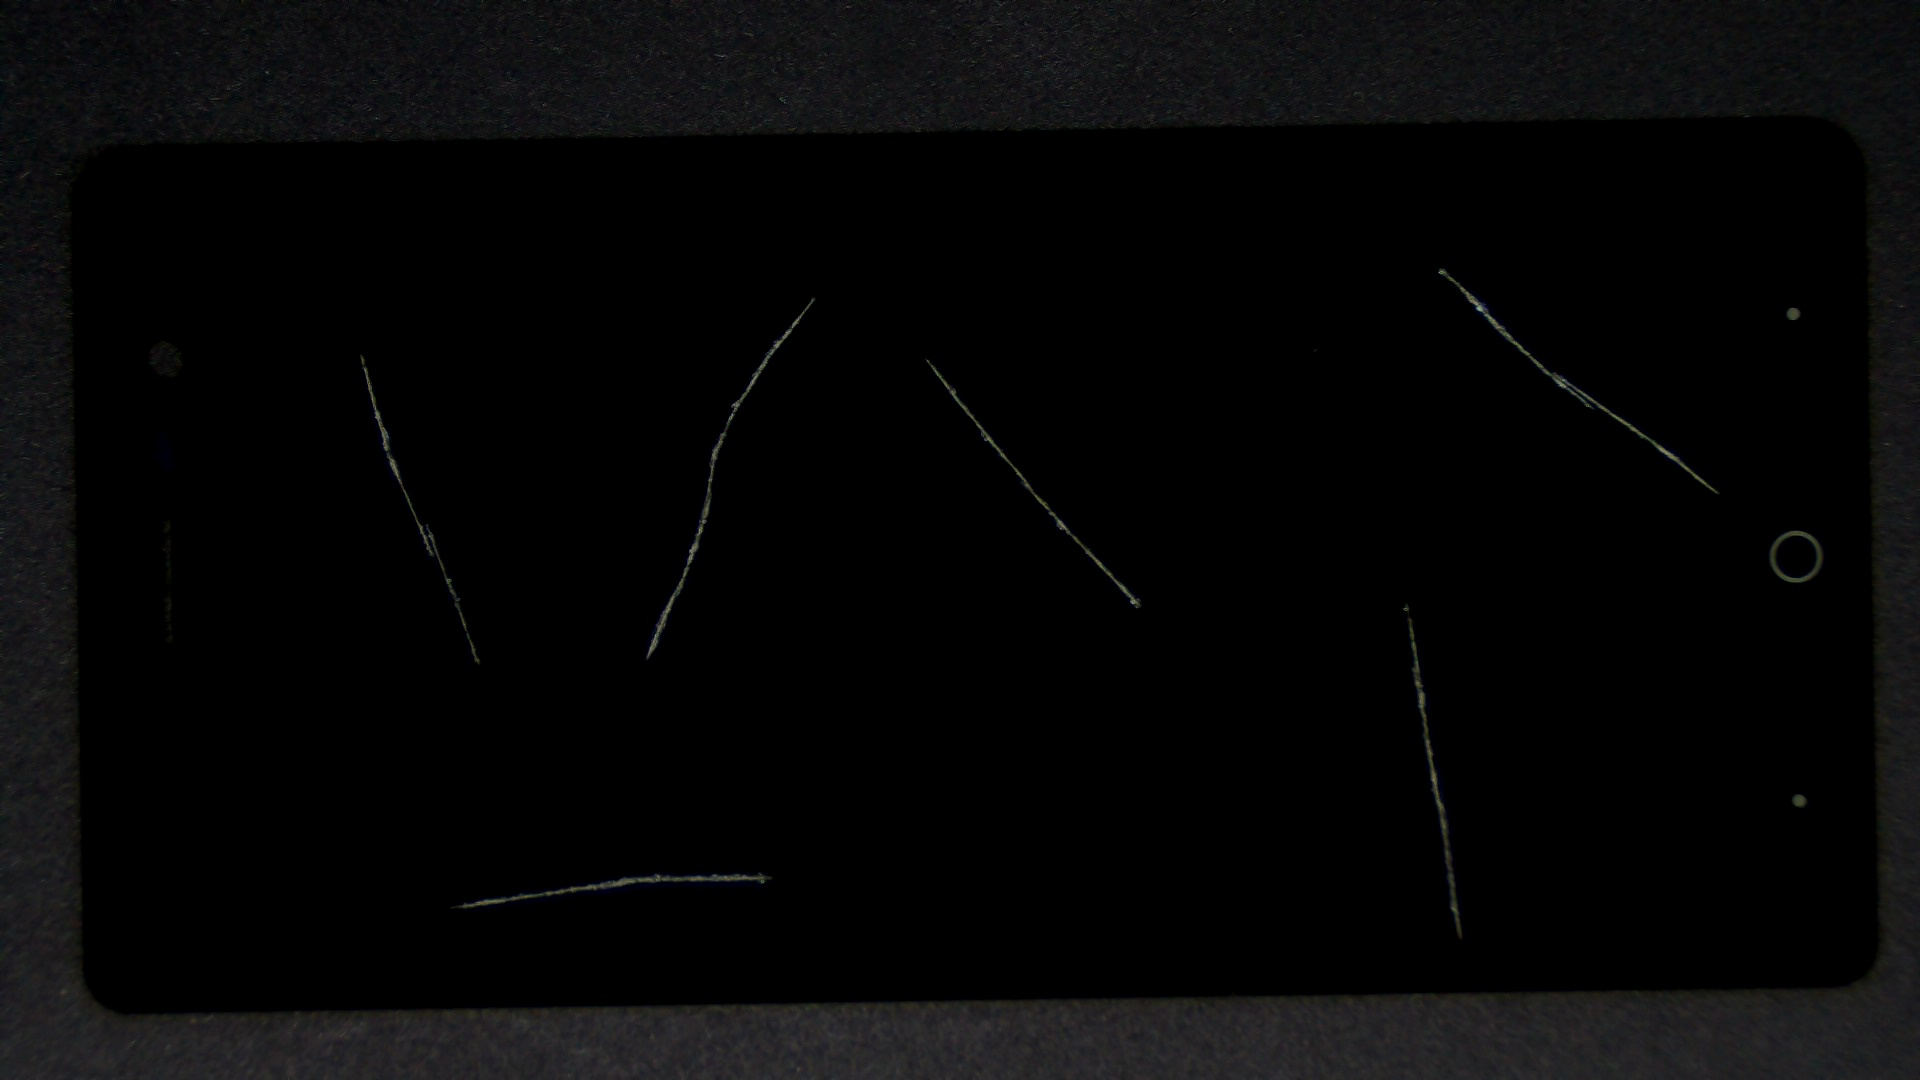oil: (703, 299, 1920, 901), (369, 434, 1106, 1080), (460, 175, 1381, 529), (720, 132, 1920, 400), (405, 146, 1215, 446), (179, 175, 541, 529)
